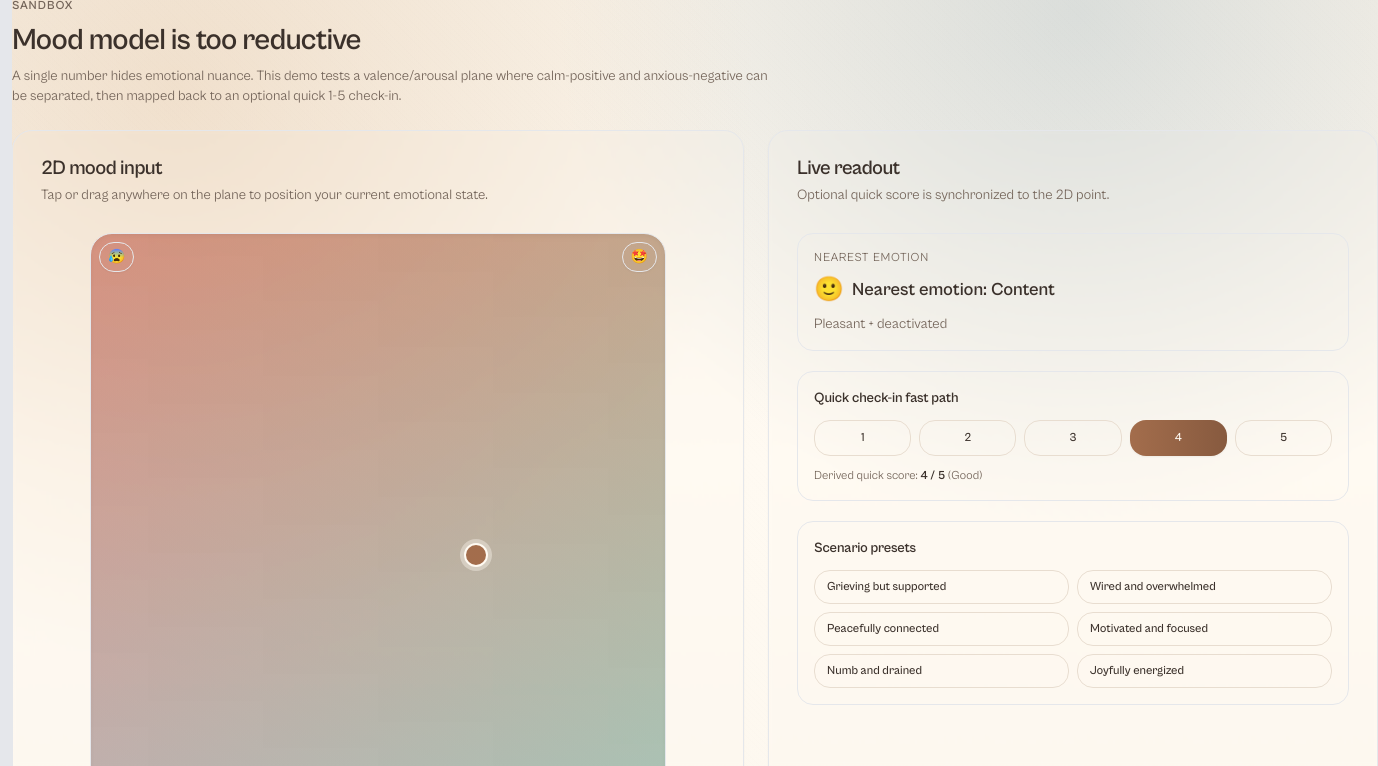
MoodModelSandbox › syncs coordinates and derived score when clicking a quick-score chip
The image size is (1378, 766).
Click the button named "Quick check-in score 5" at (1283, 438), box [1235, 420, 1332, 456]
(page scrolled)
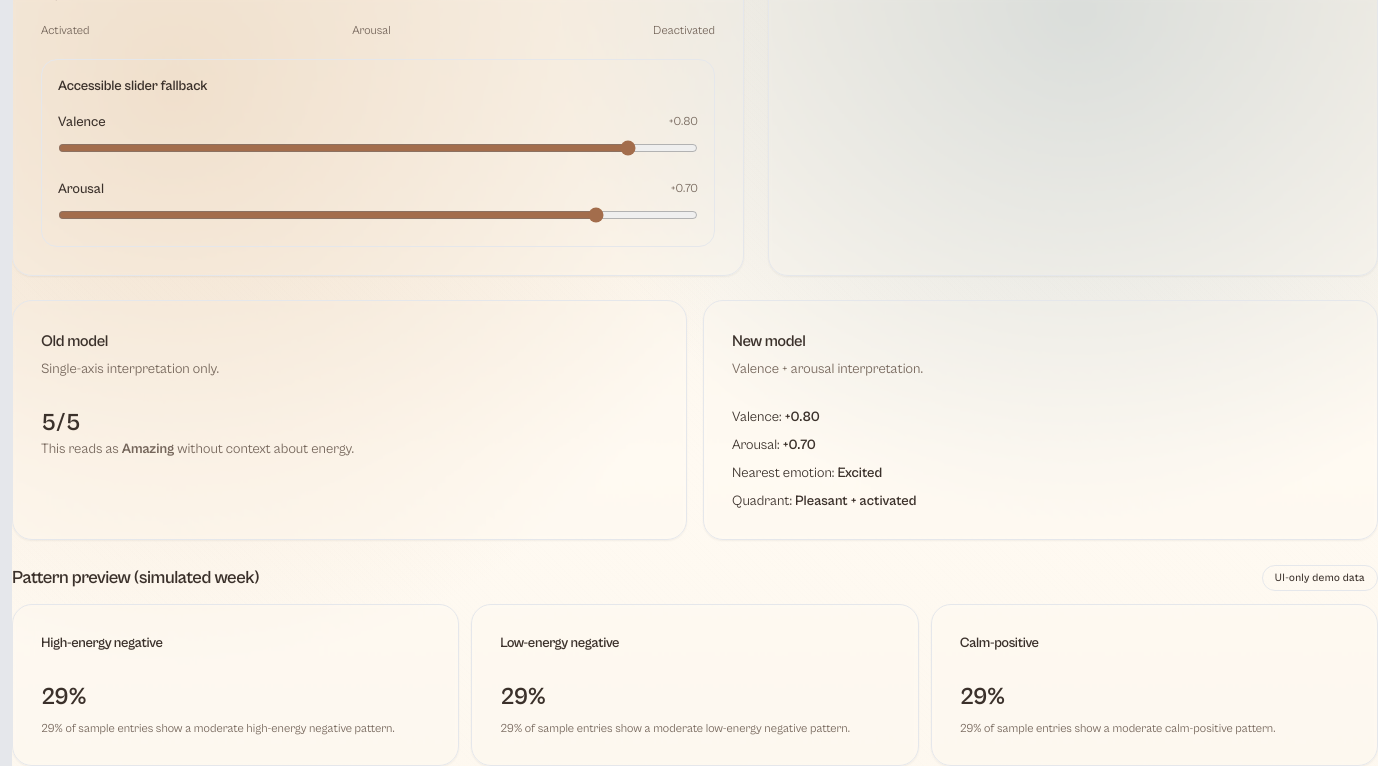
Now the element with test id "new-model-valence" shows "+0.80", box [785, 409, 820, 425]
Now the element with test id "new-model-arousal" shows "+0.70", box [783, 437, 816, 453]
